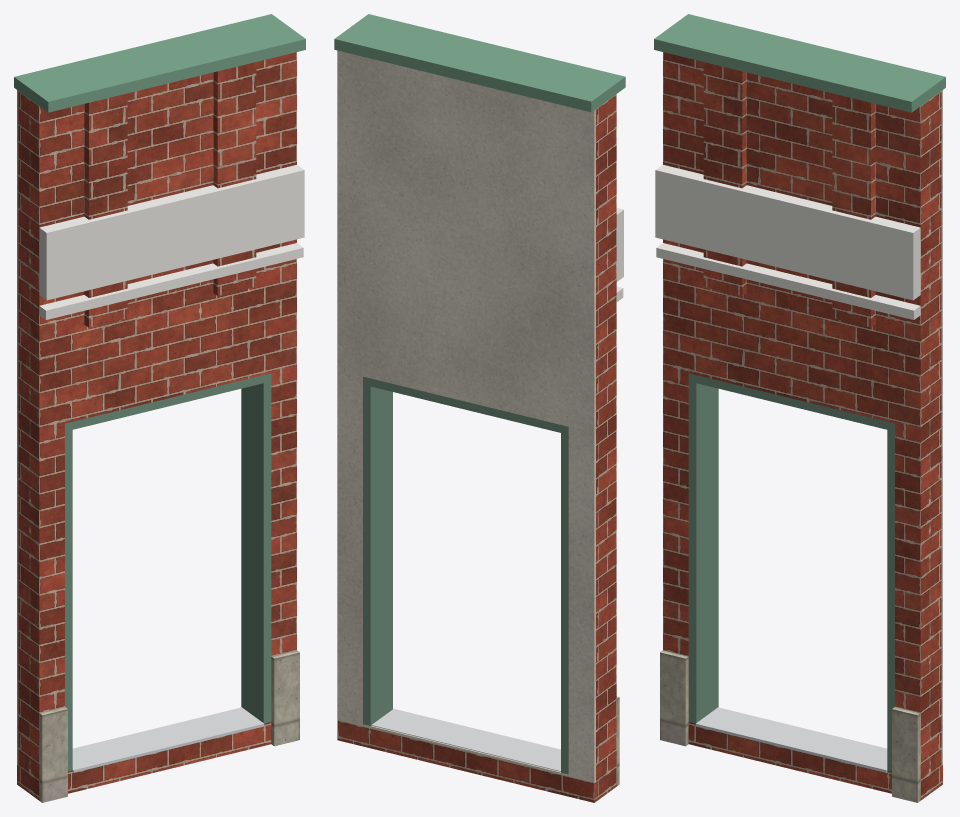
File: wall_entry.glb
The picture shows the model from 3 angles, left to right: view 1: azimuth 30°, elevation 25°; view 2: azimuth 150°, elevation 25°; view 3: azimuth 330°, elevation 25°; orthographic projection.
Visible parts, largest first — view 1: wall_entry_brick, wall_entry_trim, wall_entry_frame2, wall_entry_coping, wall_entry_stone, wall_entry_metal, wall_entry_plaster; view 2: wall_entry_plaster, wall_entry_brick, wall_entry_frame2, wall_entry_coping, wall_entry_metal, wall_entry_trim; view 3: wall_entry_brick, wall_entry_trim, wall_entry_frame2, wall_entry_coping, wall_entry_stone, wall_entry_metal, wall_entry_plaster.
Part boxes in pixels (bbox=[...]): wall_entry_brick: bbox=[17, 52, 296, 800]; wall_entry_trim: bbox=[39, 165, 304, 319]; wall_entry_frame2: bbox=[65, 373, 271, 771]; wall_entry_coping: bbox=[14, 14, 305, 112]; wall_entry_stone: bbox=[39, 650, 299, 802]; wall_entry_metal: bbox=[72, 707, 264, 772]; wall_entry_plaster: bbox=[17, 90, 18, 764]; wall_entry_plaster: bbox=[337, 50, 595, 782]; wall_entry_brick: bbox=[337, 94, 616, 802]; wall_entry_frame2: bbox=[363, 376, 568, 774]; wall_entry_coping: bbox=[334, 14, 625, 112]; wall_entry_metal: bbox=[371, 709, 560, 771]; wall_entry_trim: bbox=[616, 208, 623, 301]; wall_entry_brick: bbox=[663, 52, 942, 800]; wall_entry_trim: bbox=[655, 165, 920, 319]; wall_entry_frame2: bbox=[688, 373, 894, 771]; wall_entry_coping: bbox=[654, 14, 945, 112]; wall_entry_stone: bbox=[660, 650, 920, 802]; wall_entry_metal: bbox=[695, 707, 887, 772]; wall_entry_plaster: bbox=[941, 90, 942, 764].
Bounding box in the file's own units: 2 × 5.23 × 0.46.
7 materials, 3 textured.
